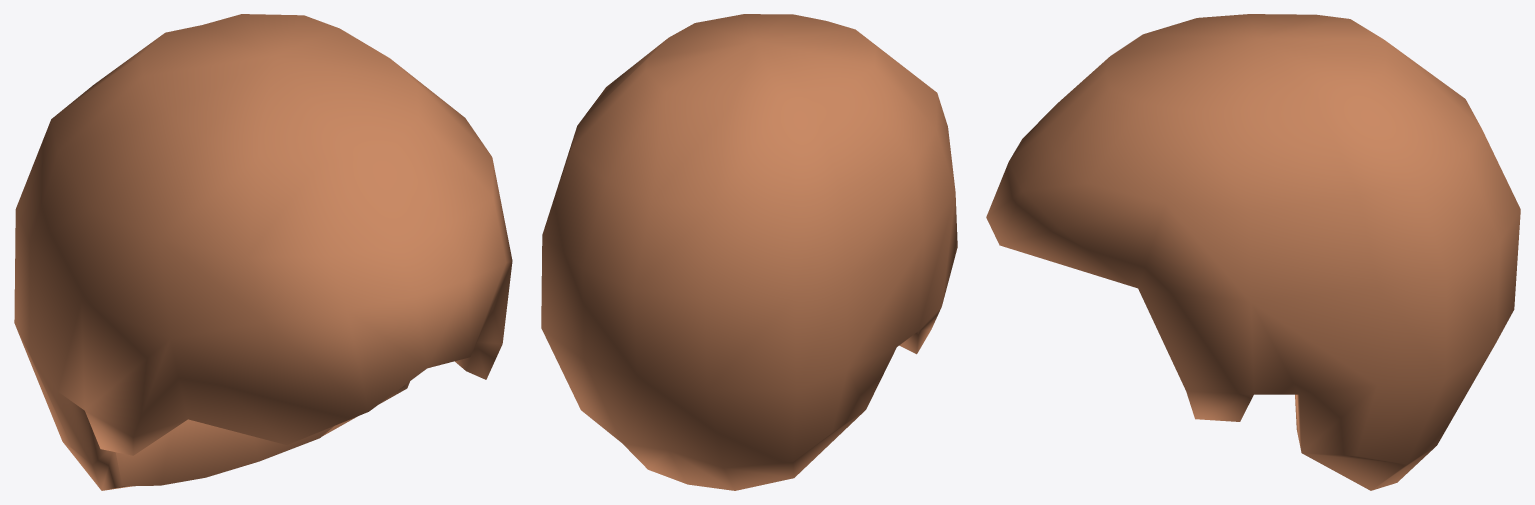
File: Simple3.fbx
3 renders of one model, left to right at view 1: azimuth 30°, elevation 25°; view 2: azimuth 150°, elevation 25°; view 3: azimuth 270°, elevation 25°, orthographic. The views are drawn at different scales.
Visible parts, largest first — view 1: 03 Hair - Simple 03; view 2: 03 Hair - Simple 03; view 3: 03 Hair - Simple 03.
Part boxes in pixels (<box>): 03 Hair - Simple 03: <box>14,14,512,490</box>; 03 Hair - Simple 03: <box>541,14,957,490</box>; 03 Hair - Simple 03: <box>986,14,1520,490</box>.
Size of the model in its own units: 0.2207 by 0.2529 by 0.2901.
